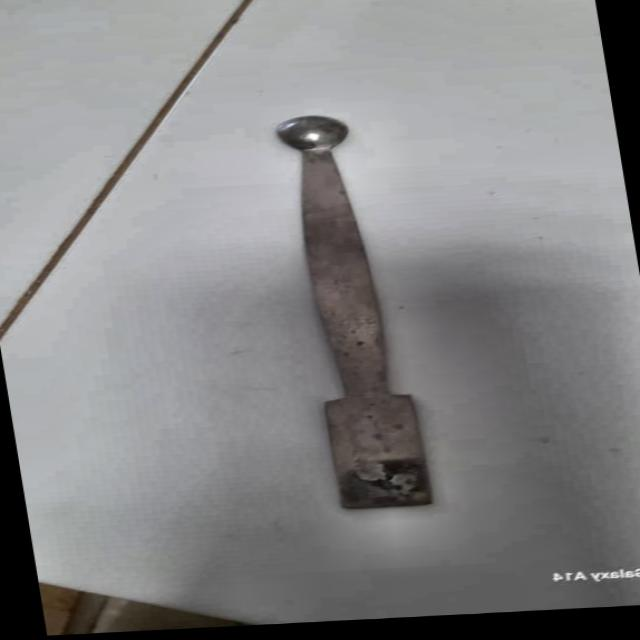Spatula: (254, 108, 446, 522)
